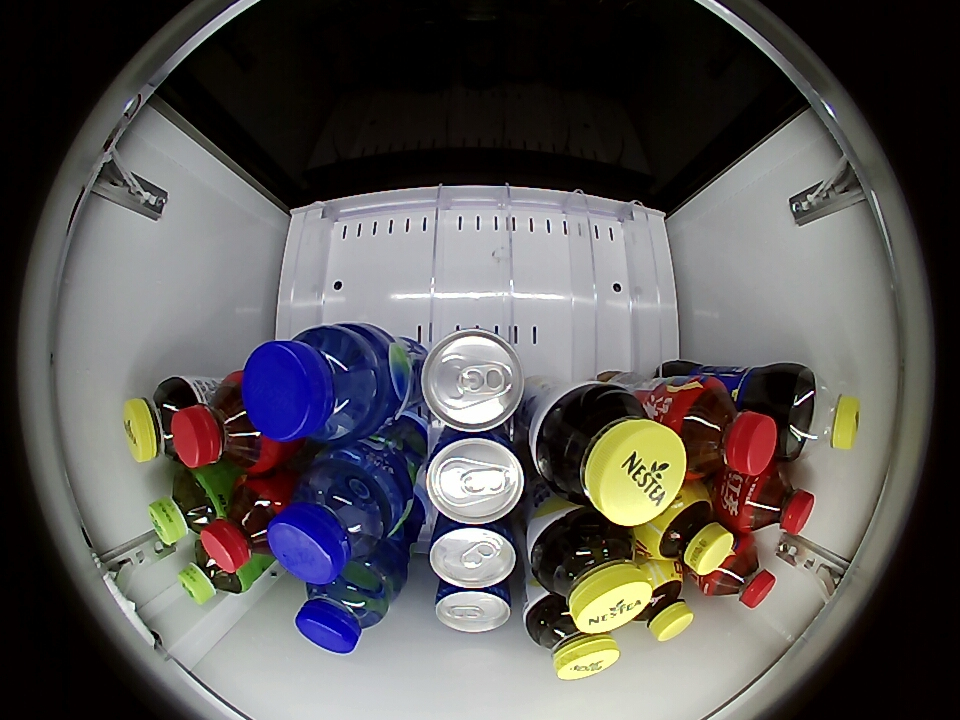baishikele: (780, 367, 861, 458)
binghongcha: (174, 372, 280, 474), (672, 378, 777, 477), (201, 474, 288, 574), (733, 462, 816, 536), (703, 537, 776, 609)
chacui: (536, 384, 687, 526), (530, 507, 652, 634), (525, 595, 620, 680), (124, 376, 197, 464)
maidong: (269, 445, 402, 584), (242, 324, 387, 443), (294, 559, 395, 654)
qingdaowangzi-2: (419, 328, 526, 434), (425, 431, 526, 525), (428, 519, 520, 589), (434, 581, 513, 633)
weitaningmeng-bottle: (636, 480, 734, 576), (626, 562, 694, 642)
yitengyuan: (149, 470, 223, 545), (178, 539, 247, 604)
